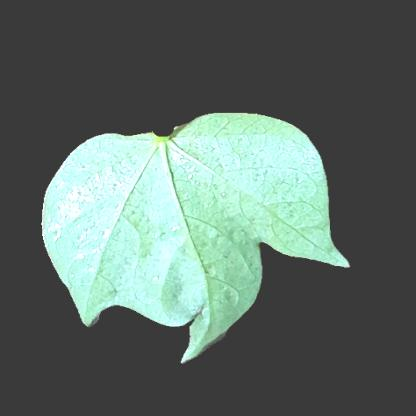healthy: (141, 132, 259, 302), (55, 154, 138, 280), (250, 158, 322, 239)
